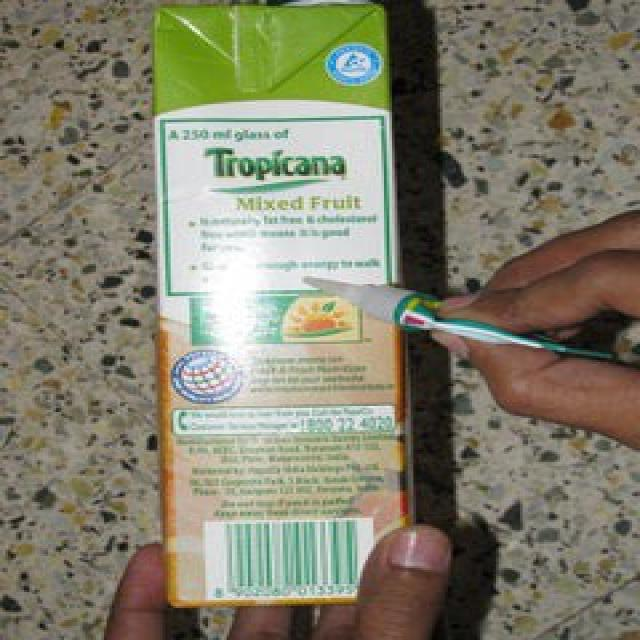non_white_jug: (153, 0, 411, 610)
